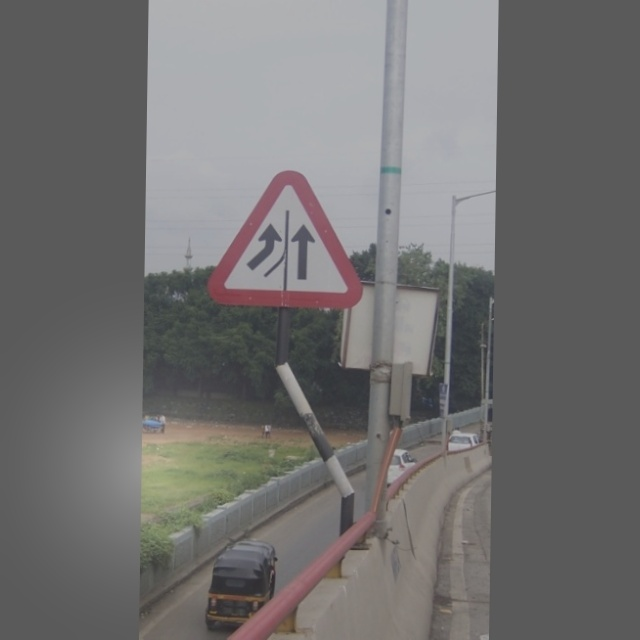Merge_Traffic_Ahead: (207, 162, 369, 319)
